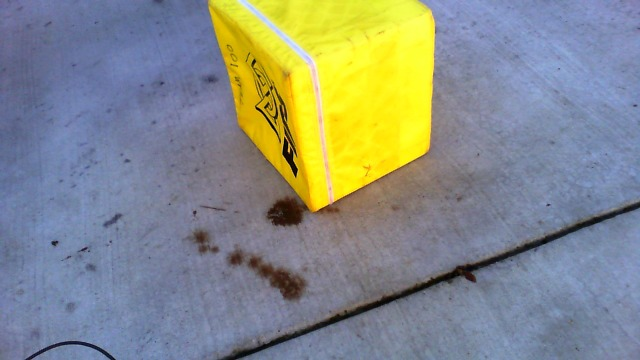cube: (200, 1, 439, 211)
